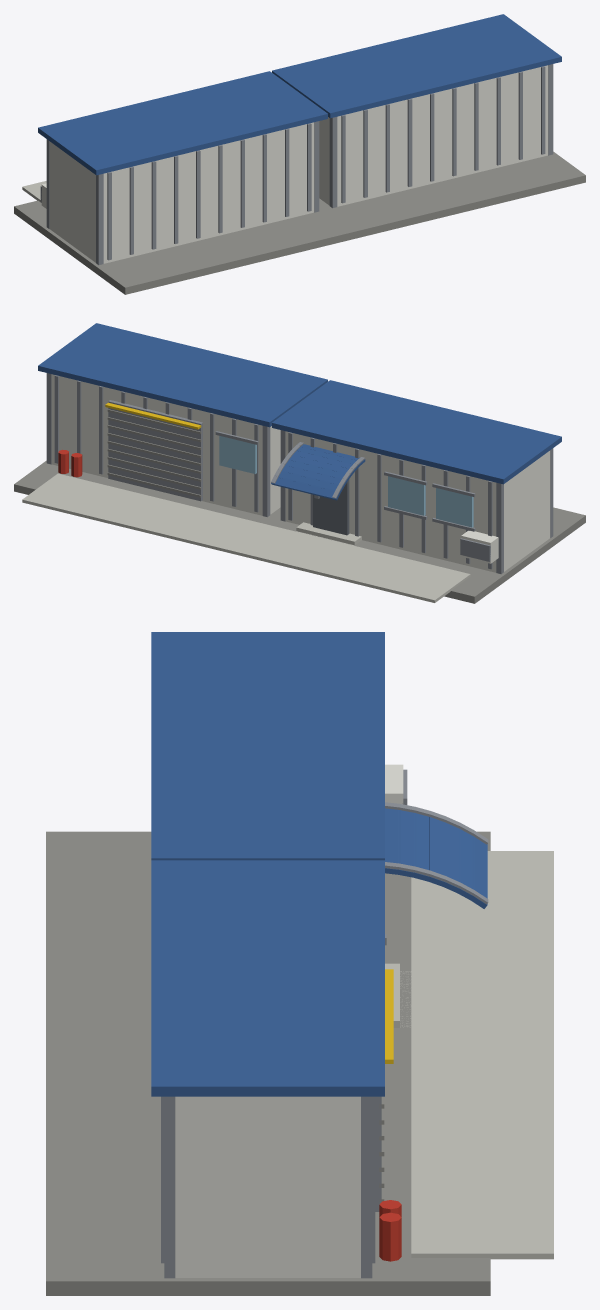
File: site_office.glb
3 views of the same model, one above another, from view 1: azimuth 30°, elevation 25°; view 2: azimuth 150°, elevation 25°; view 3: azimuth 270°, elevation 25° (orthographic). The views are drawn at different scales.
Visible parts, largest first — view 1: SiteOffice; view 2: SiteOffice; view 3: SiteOffice.
Part boxes in pixels (x1=…): SiteOffice: x1=14, y1=14, x2=585, y2=294; SiteOffice: x1=14, y1=323, x2=585, y2=603; SiteOffice: x1=46, y1=632, x2=553, y2=1295.
Size of the model in its own units: 13.54 by 2.94 by 6.4.
